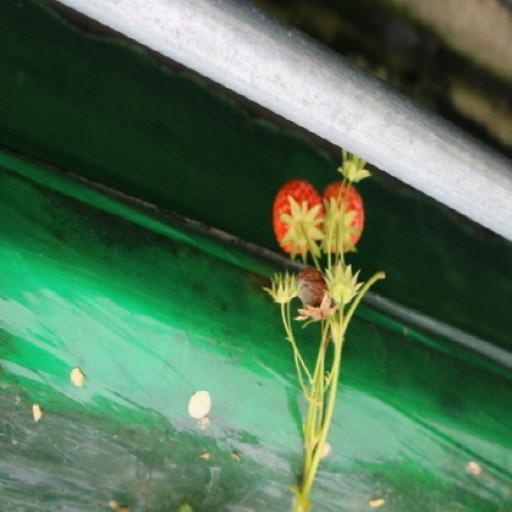Gray Mold: (293, 184, 337, 244)
